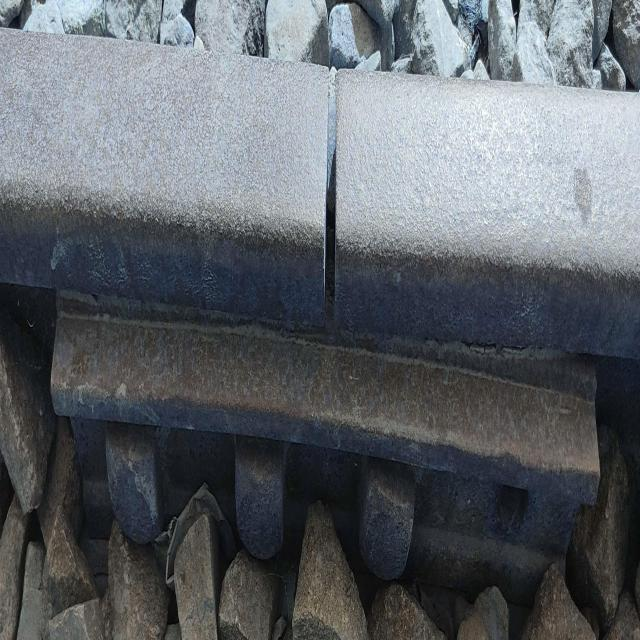Defective Joint: (49, 299, 601, 586)
